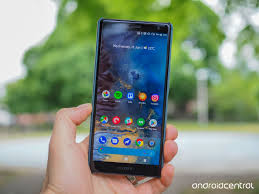sony: (85, 13, 172, 179)
